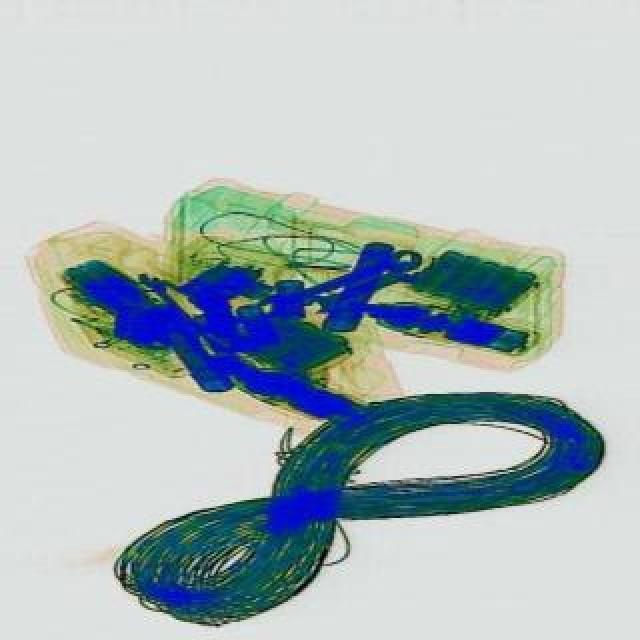scissors: (252, 240, 424, 320), (132, 264, 230, 360), (302, 256, 422, 316)
